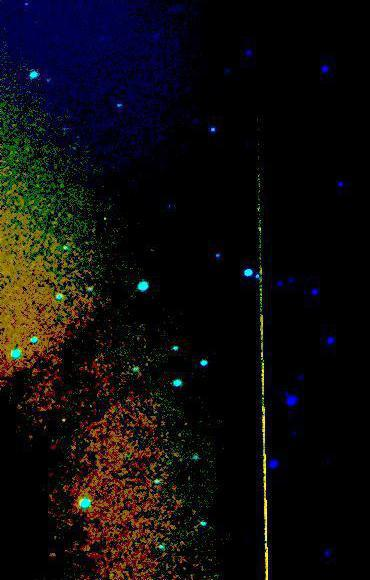star: (49, 406, 79, 436)
